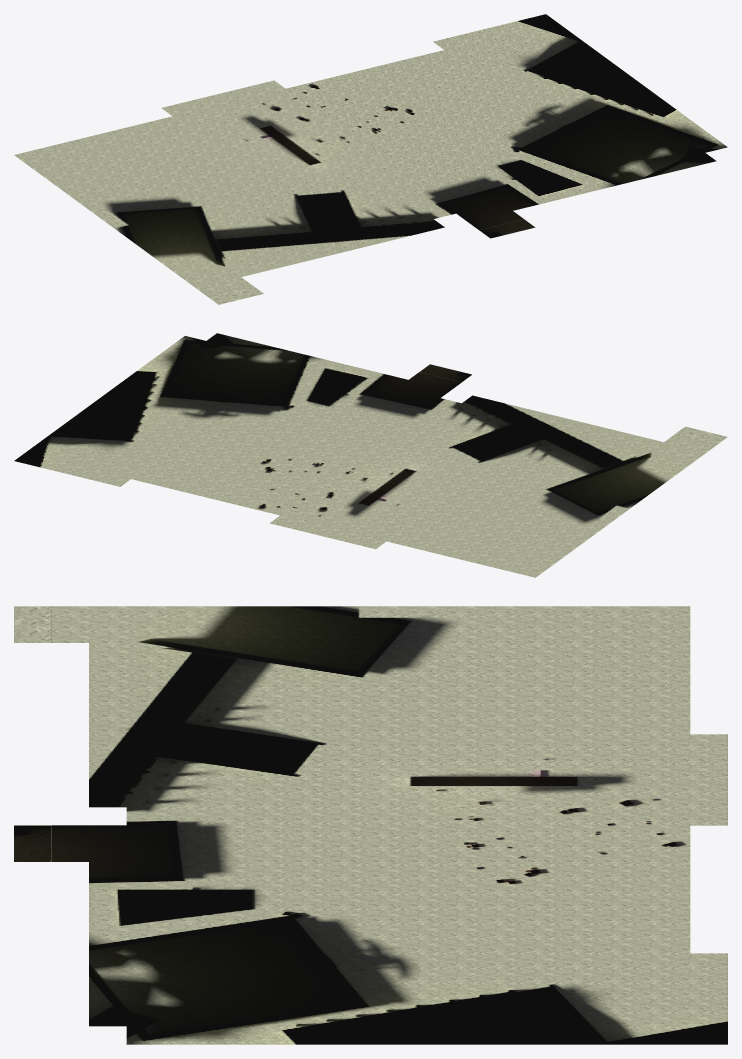
The model's file is floorEra1.glb.
3 renders of one model, top to bottom at view 1: azimuth 30°, elevation 25°; view 2: azimuth 150°, elevation 25°; view 3: azimuth 270°, elevation 25°, orthographic. The views are drawn at different scales.
Parts seen in each view (by area): view 1: Plane.005; view 2: Plane.005; view 3: Plane.005.
Boxes of the visible parts, x1,y1,x2,y2 form: Plane.005: (14, 14, 727, 304); Plane.005: (14, 333, 727, 577); Plane.005: (14, 606, 727, 1044).
Size of the model in its own units: 654 by 0 by 451.
Materials: 2 (2 with a texture image).
